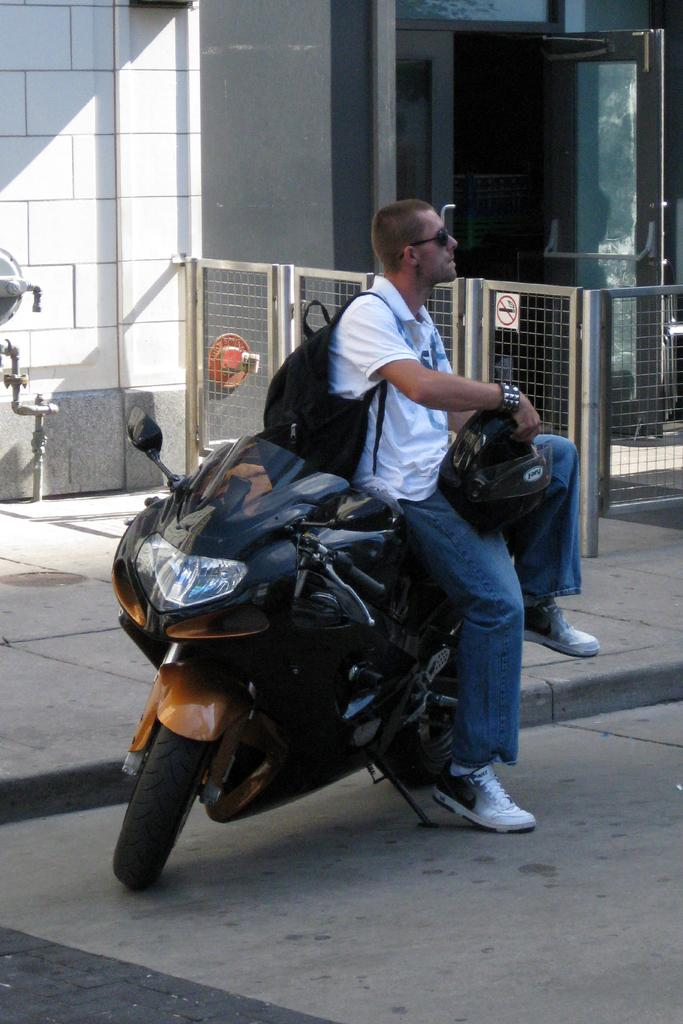helmet: (437, 401, 553, 533)
nohelmet: (369, 198, 460, 287)
